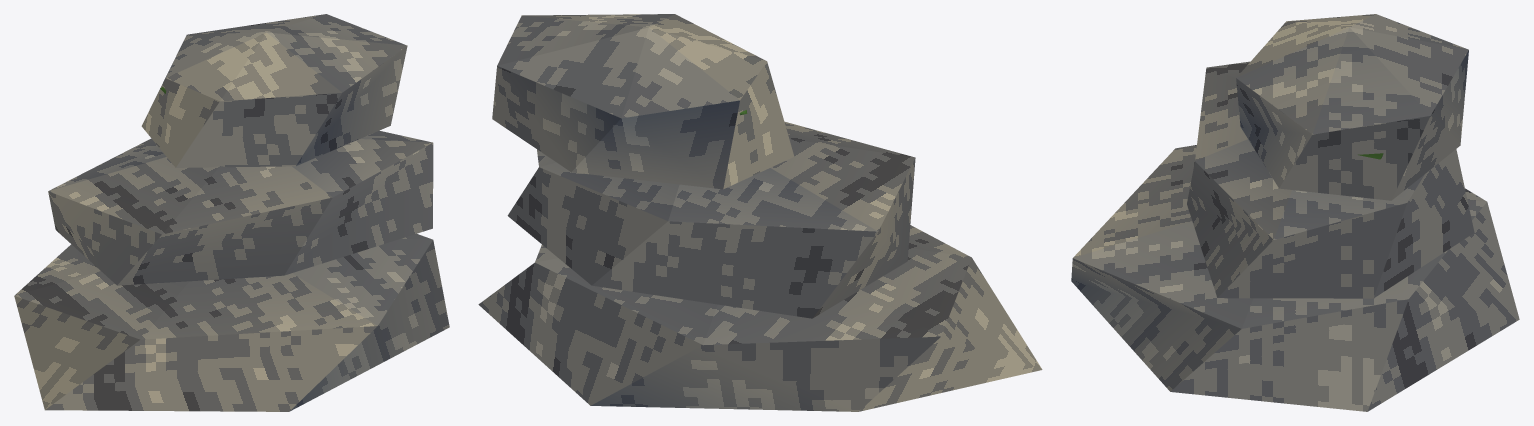
Rendered from mnat.rock__outcrop.glb.
3 views of the same model, side by side, from view 1: azimuth 30°, elevation 25°; view 2: azimuth 150°, elevation 25°; view 3: azimuth 270°, elevation 25° (orthographic). The views are drawn at different scales.
Visible parts, largest first — view 1: kit_rock; view 2: kit_rock; view 3: kit_rock.
Part boxes in pixels (bbox=[...]): kit_rock: bbox=[14, 14, 449, 411]; kit_rock: bbox=[478, 14, 1042, 411]; kit_rock: bbox=[1071, 14, 1519, 411].
Size of the model in its own units: 3.09 by 2.1 by 2.48.
2 materials, 2 textured.
